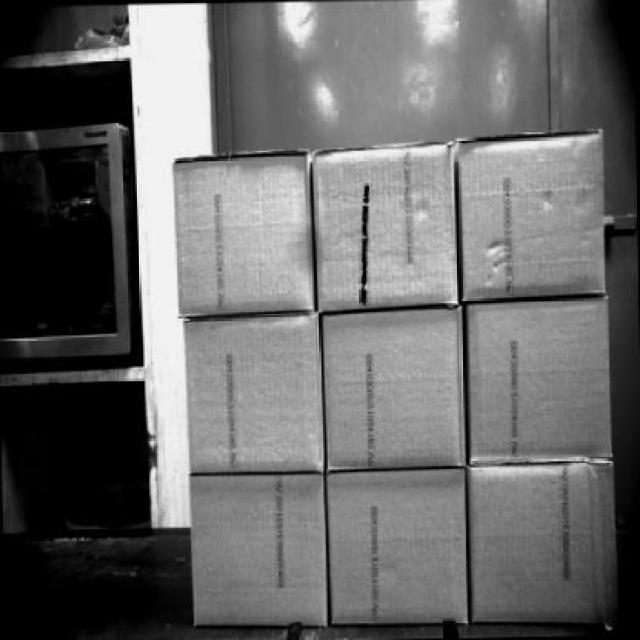cardboxes: (468, 462, 622, 636), (317, 303, 467, 479), (313, 136, 455, 316), (460, 128, 606, 302), (168, 145, 312, 321), (466, 296, 614, 467), (328, 464, 470, 632), (184, 307, 322, 478), (186, 470, 330, 633)
